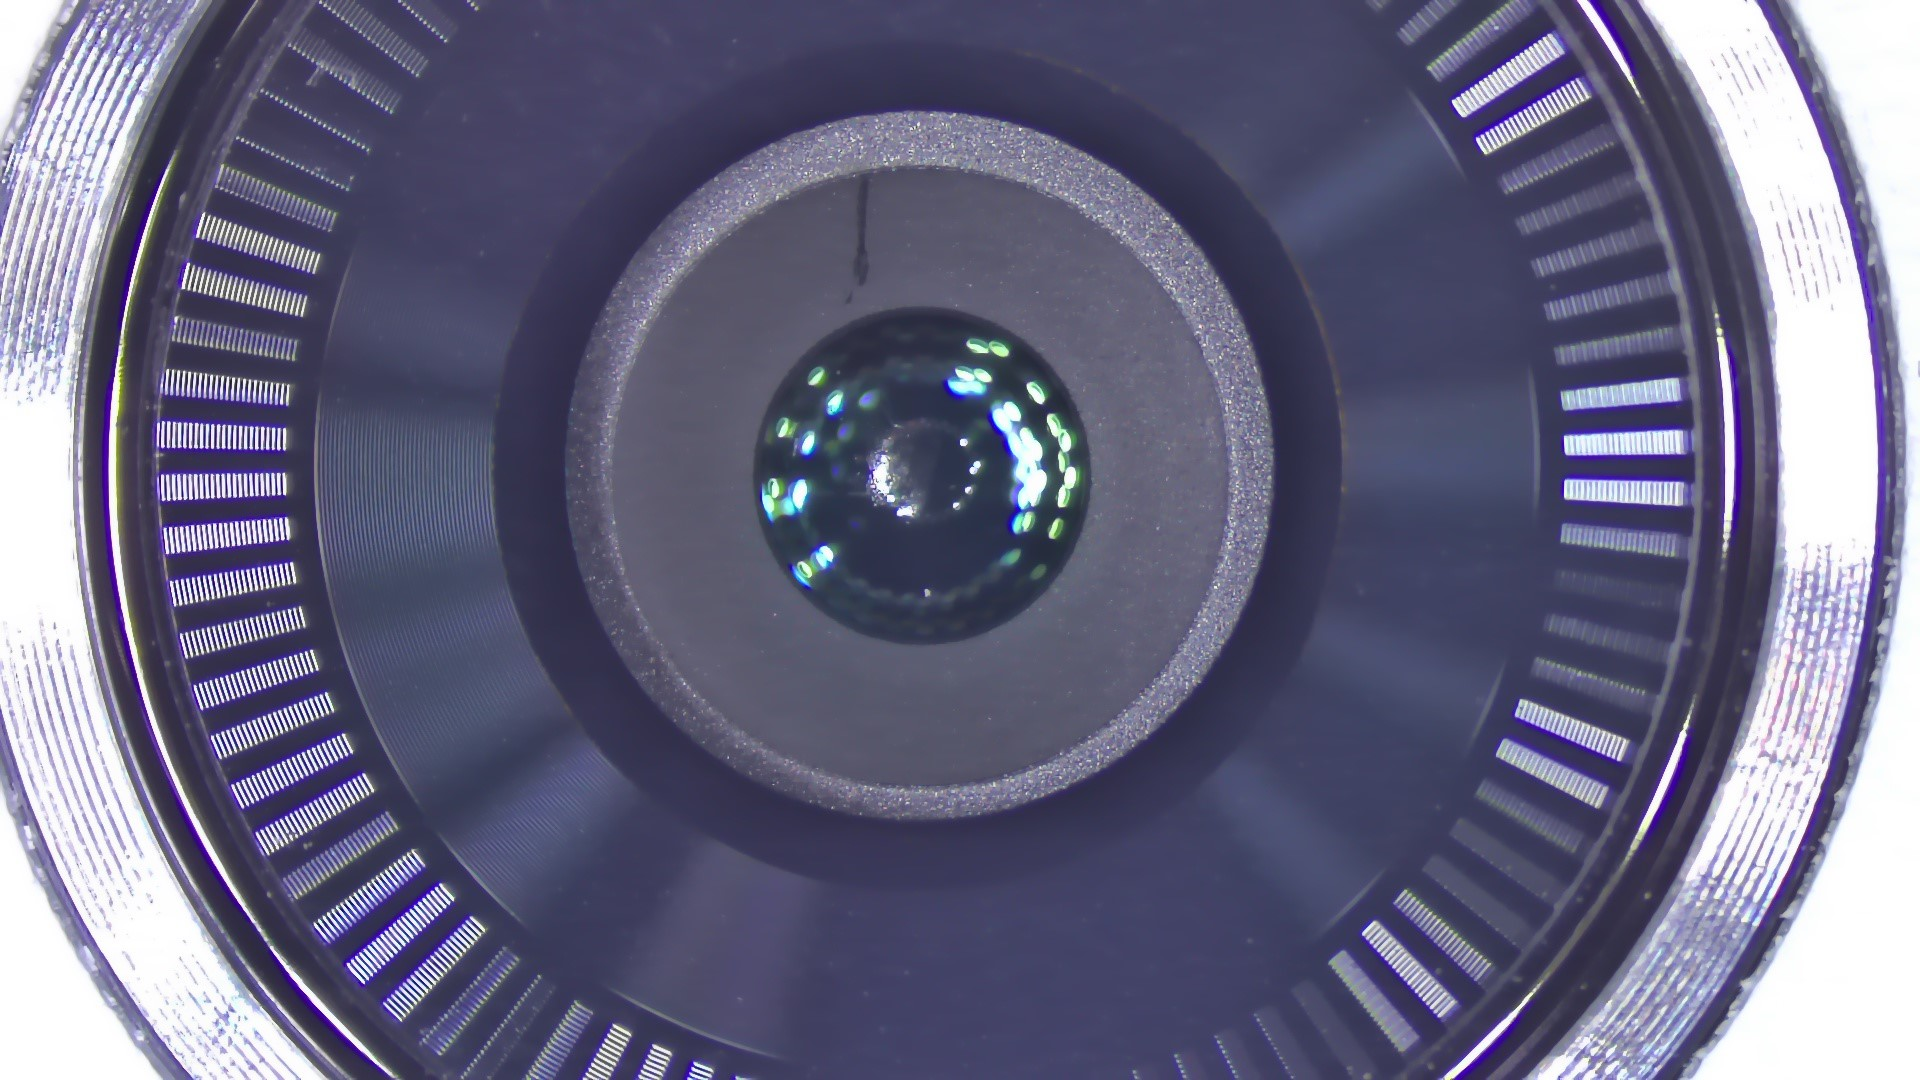crack: (843, 161, 880, 307)
